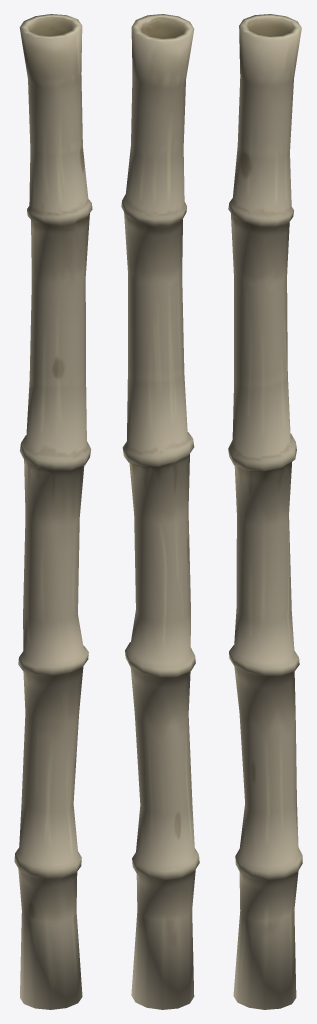
The model's file is fence pole.fbx.
3 views of the same model, side by side, from view 1: azimuth 30°, elevation 25°; view 2: azimuth 210°, elevation 25°; view 3: azimuth 270°, elevation 25° (orthographic).
Visible parts, largest first — view 1: Cylinder; view 2: Cylinder; view 3: Cylinder.
Boxes of the visible parts, box(x1,y1,x2,y2) form: Cylinder: box(14, 14, 92, 1009); Cylinder: box(121, 14, 199, 1009); Cylinder: box(228, 14, 302, 1009).
Size of the model in its own units: 12.68 by 180 by 12.52.
